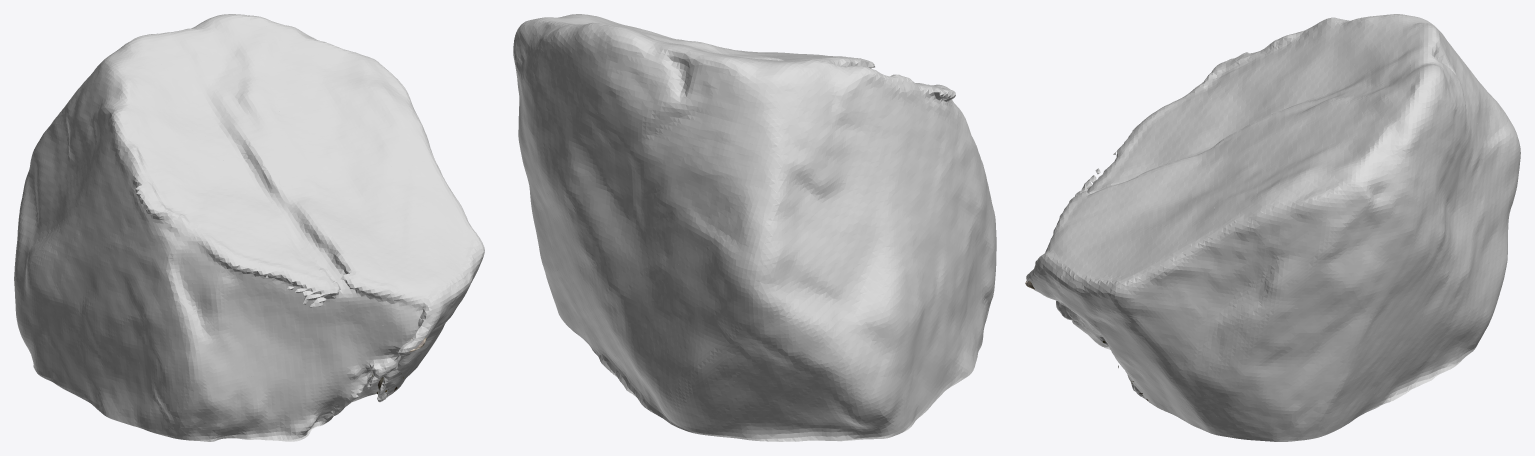
3 views of the same model, side by side, from view 1: azimuth 30°, elevation 25°; view 2: azimuth 150°, elevation 25°; view 3: azimuth 270°, elevation 25° (orthographic). The views are drawn at different scales.
Parts seen in each view (by area): view 1: scaniverse-20210508-132625; view 2: scaniverse-20210508-132625; view 3: scaniverse-20210508-132625.
Part boxes in pixels (x1,y1,x2,y2): scaniverse-20210508-132625: (14, 14, 484, 441); scaniverse-20210508-132625: (513, 14, 996, 441); scaniverse-20210508-132625: (1026, 14, 1520, 441).
Size of the model in its own units: 1.57 by 1.27 by 1.83.
2 materials, 1 textured.
